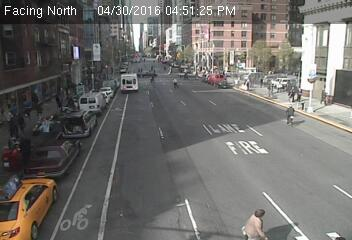neg: (272, 21, 299, 58), (124, 100, 146, 129), (162, 92, 183, 120), (109, 10, 129, 36), (235, 24, 255, 49), (24, 36, 42, 60), (75, 45, 91, 66), (205, 63, 218, 80), (67, 31, 77, 44)
pos: (246, 205, 270, 237), (14, 108, 31, 131), (3, 115, 19, 136), (283, 85, 297, 103), (31, 99, 45, 117), (51, 93, 64, 110), (295, 86, 307, 102), (169, 76, 180, 90)
